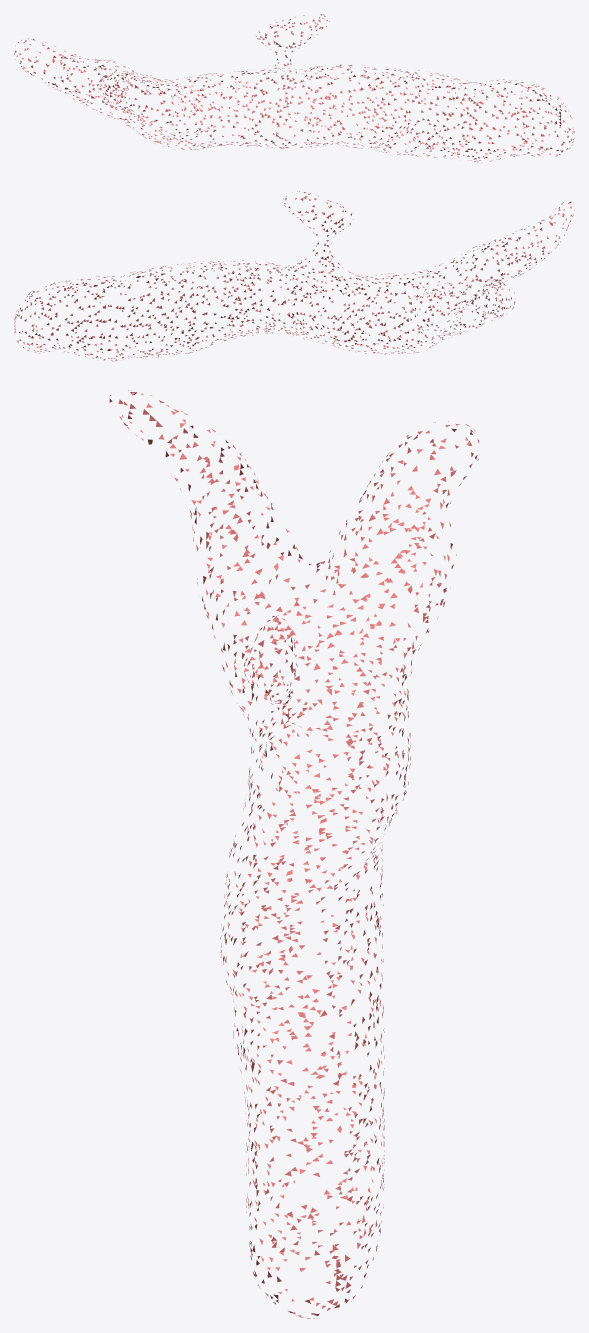
Rendered from morph_000.glb.
3 renders of one model, top to bottom at view 1: azimuth 30°, elevation 25°; view 2: azimuth 150°, elevation 25°; view 3: azimuth 270°, elevation 25°, orthographic. The views are drawn at different scales.
Bounding box in the file's own units: 127 × 54.09 × 39.64.
